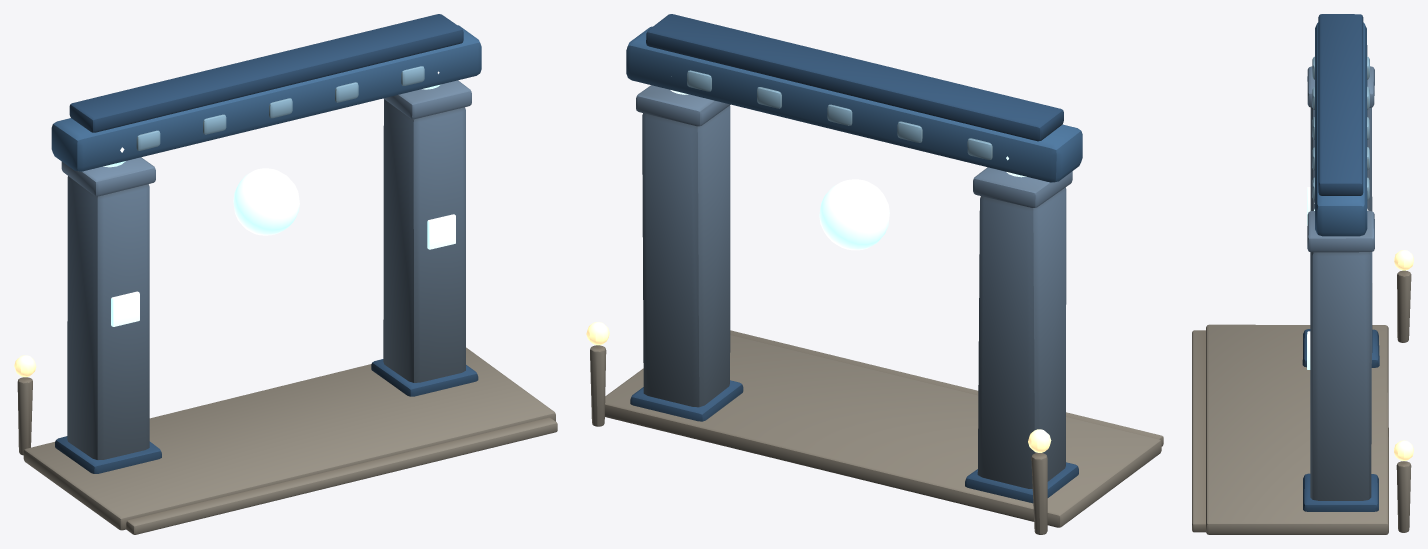
The picture shows the model from 3 angles, left to right: view 1: azimuth 30°, elevation 25°; view 2: azimuth 150°, elevation 25°; view 3: azimuth 270°, elevation 25°; orthographic projection. The views are drawn at different scales.
Parts seen in each view (by area): view 1: gate_9d4289ea; view 2: gate_9d4289ea; view 3: gate_9d4289ea.
Boxes of the visible parts, bbox=[...] form: gate_9d4289ea: bbox=[14, 14, 557, 534]; gate_9d4289ea: bbox=[586, 14, 1163, 534]; gate_9d4289ea: bbox=[1192, 14, 1413, 534].
Size of the model in its own units: 5.43 by 4.29 by 2.55.
